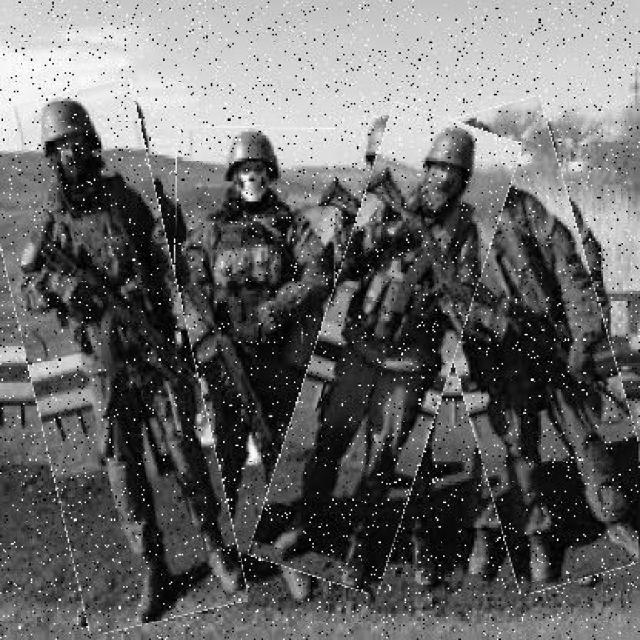Person: (1, 86, 221, 633), (423, 103, 640, 592), (284, 107, 490, 592), (172, 129, 336, 613)
